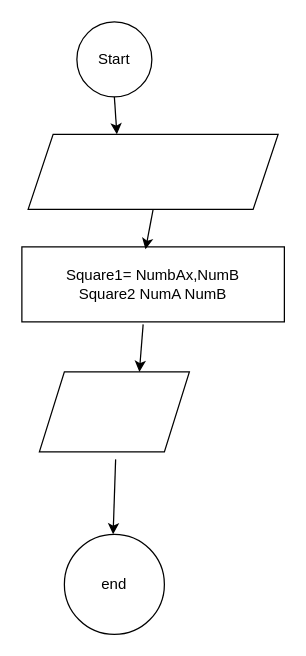
This 306x656 diagram has some shape labels left out. The centre of each missing label's shape, as x and y in pixels:
"Read NumA, Numb B sum" belongs at (152,171).
"write um" belongs at (113,411).
